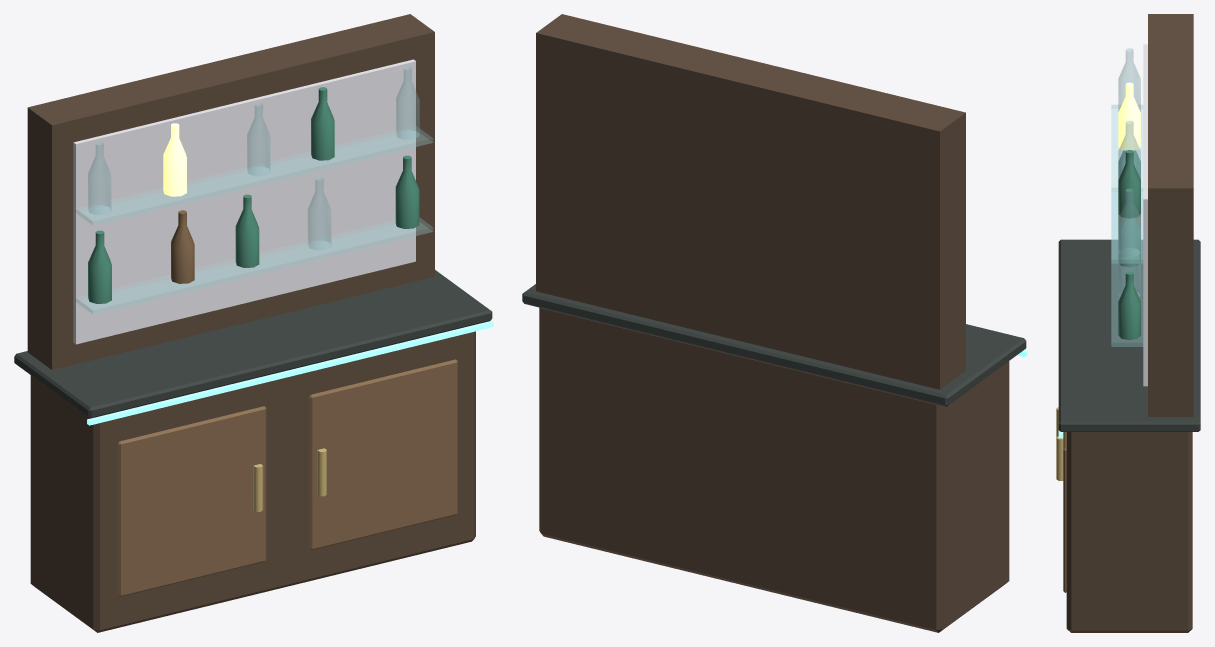
Rendered from ex_bar.glb.
3 views of the same model, side by side, from view 1: azimuth 30°, elevation 25°; view 2: azimuth 150°, elevation 25°; view 3: azimuth 270°, elevation 25° (orthographic). The views are drawn at different scales.
Parts seen in each view (by area): view 1: ex_bar; view 2: ex_bar; view 3: ex_bar.
Part boxes in pixels (<box>): ex_bar: <box>14,14,493,632</box>; ex_bar: <box>522,14,1027,632</box>; ex_bar: <box>1056,14,1200,632</box>.
Size of the model in its own units: 1.9 by 2.15 by 0.63.
